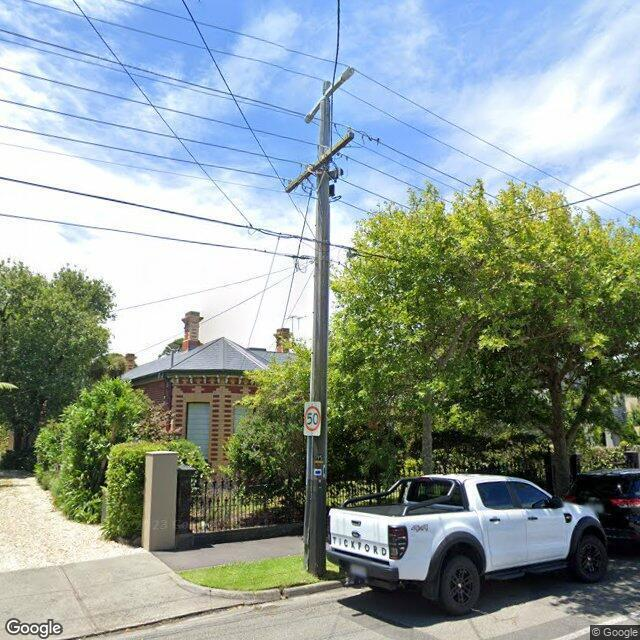HV-transmission: (304, 66, 355, 124)
crossarm: (282, 123, 367, 193), (311, 78, 343, 115)
timber-pole: (302, 80, 333, 575)
